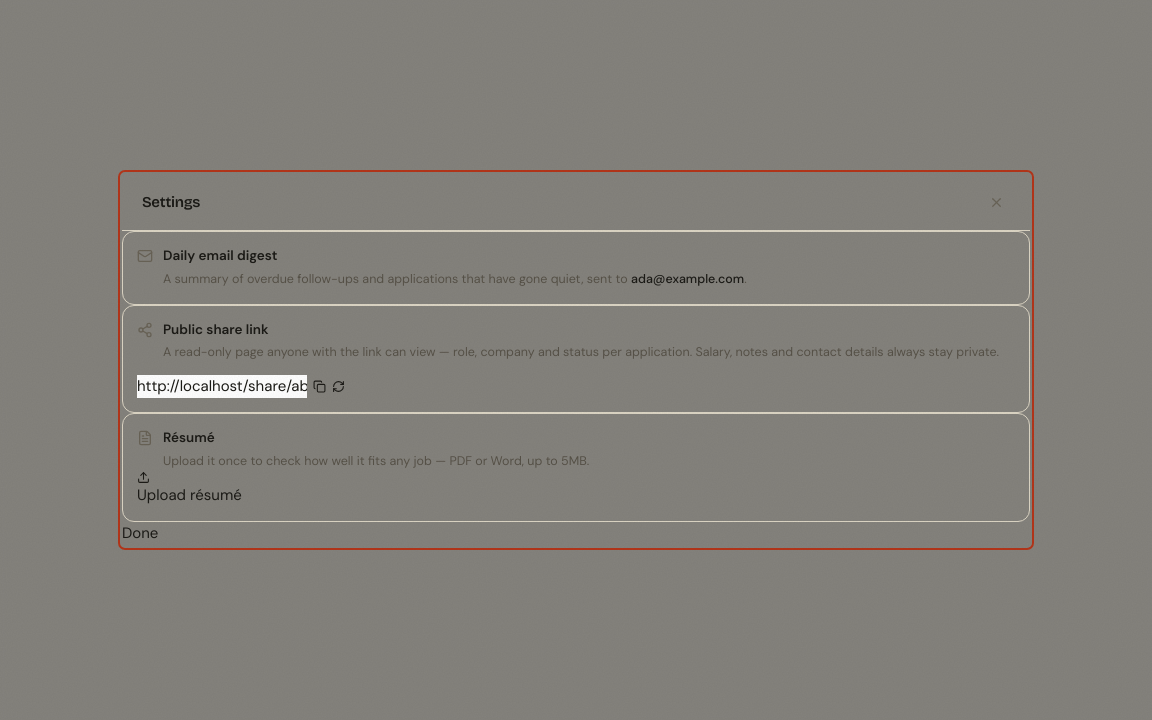
<SettingsDialog /> › regenerates the link with a fresh token
The width and height of the screenshot is (1152, 720).
Expected: the field showing "/share/abc123" is shown, [137,375,307,398]
Click the button named "Regenerate link". click: (338, 386)
box: [332,380,345,393]
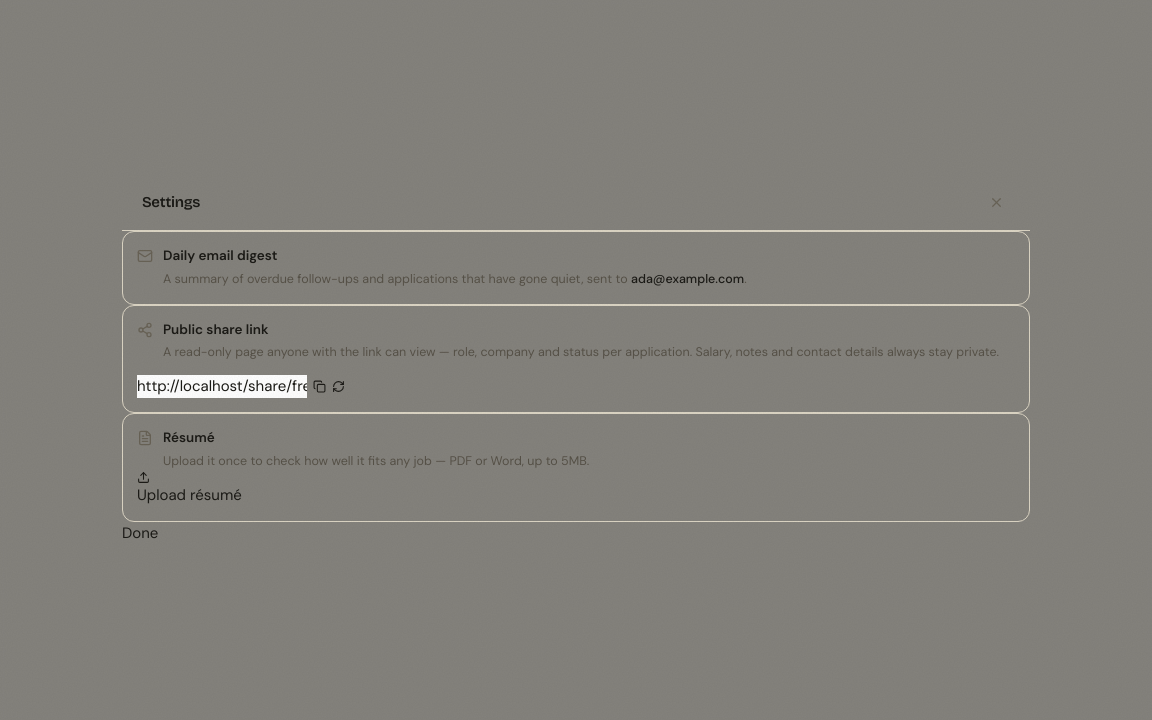
Expected: the field showing "/share/fresh456" is shown, [137,375,307,398]
